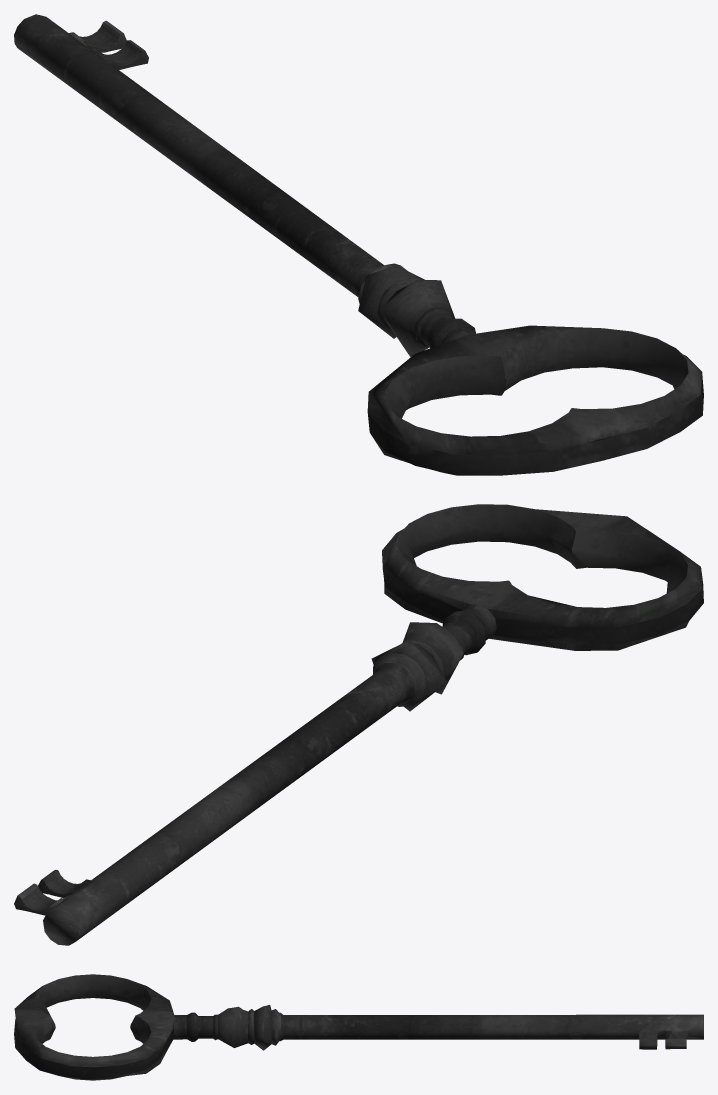
File: Key.fbx
3 renders of one model, top to bottom at view 1: azimuth 30°, elevation 25°; view 2: azimuth 150°, elevation 25°; view 3: azimuth 270°, elevation 25°, orthographic. The views are drawn at different scales.
Parts seen in each view (by area): view 1: SM_Key_LOD0; view 2: SM_Key_LOD0; view 3: SM_Key_LOD0.
Part boxes in pixels (<box>): SM_Key_LOD0: <box>14,14,703,475</box>; SM_Key_LOD0: <box>14,504,703,945</box>; SM_Key_LOD0: <box>14,974,703,1080</box>.
Bounding box in the file's own units: 5.01 × 1.16 × 16.21.
